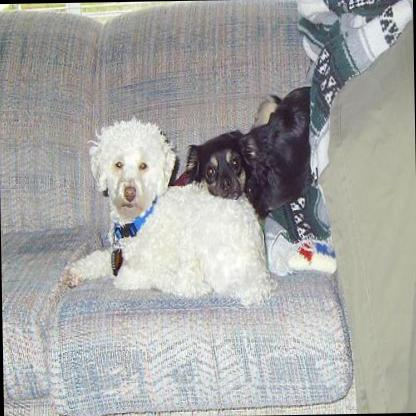toy_poodle: (61, 112, 270, 306)
